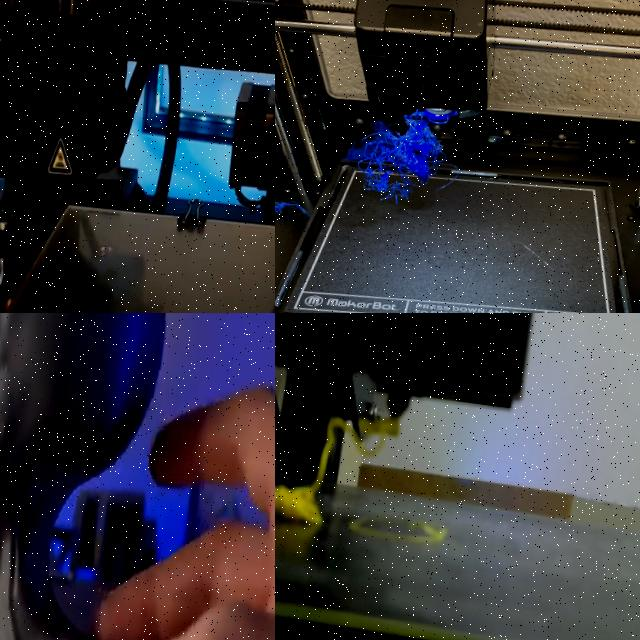spaghetti: (275, 417, 398, 524), (342, 111, 466, 202), (275, 200, 310, 224)
